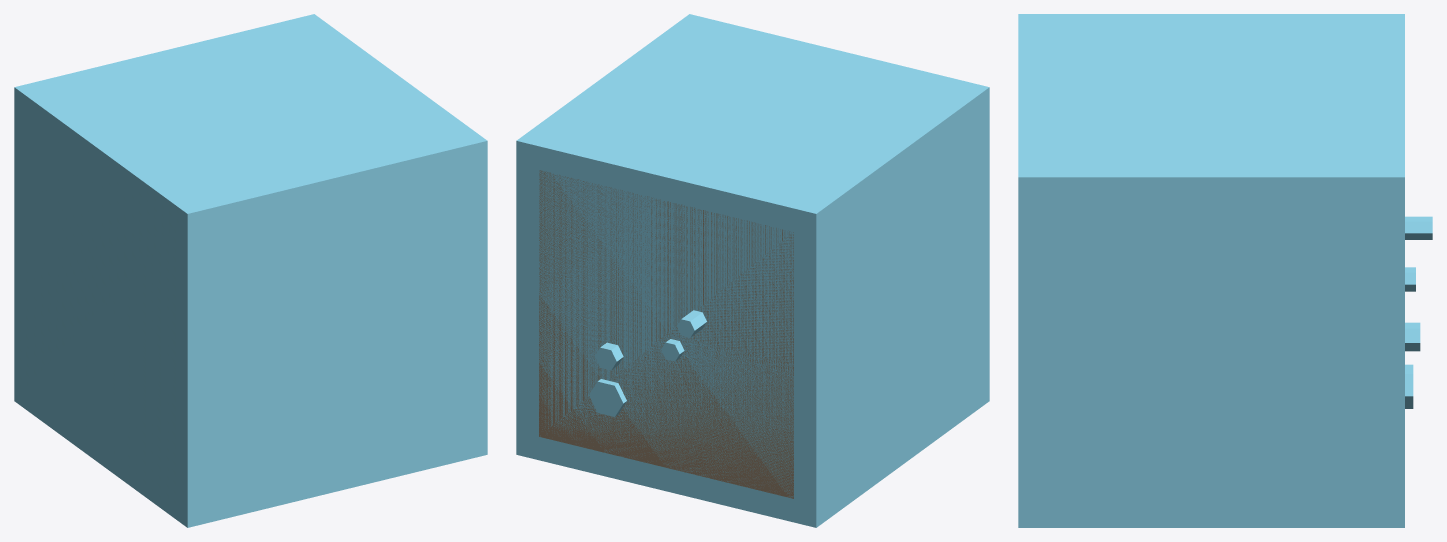
The model's file is 71_reef_anemone.glb.
3 views of the same model, side by side, from view 1: azimuth 30°, elevation 25°; view 2: azimuth 150°, elevation 25°; view 3: azimuth 270°, elevation 25° (orthographic). The views are drawn at different scales.
Visible parts, largest first — view 1: Core; view 2: Core, Soil, Coral_7, Coral_6, Coral_0; view 3: Core, Coral_0.
Part boxes in pixels (bbox=[...]): Core: bbox=[14, 14, 487, 527]; Core: bbox=[516, 14, 989, 527]; Soil: bbox=[539, 170, 793, 498]; Coral_7: bbox=[589, 379, 626, 416]; Coral_6: bbox=[594, 342, 623, 370]; Coral_0: bbox=[676, 310, 706, 337]; Core: bbox=[1018, 14, 1404, 527]; Coral_0: bbox=[1405, 216, 1432, 239].
Size of the model in its own units: 1 by 1 by 1.07.
